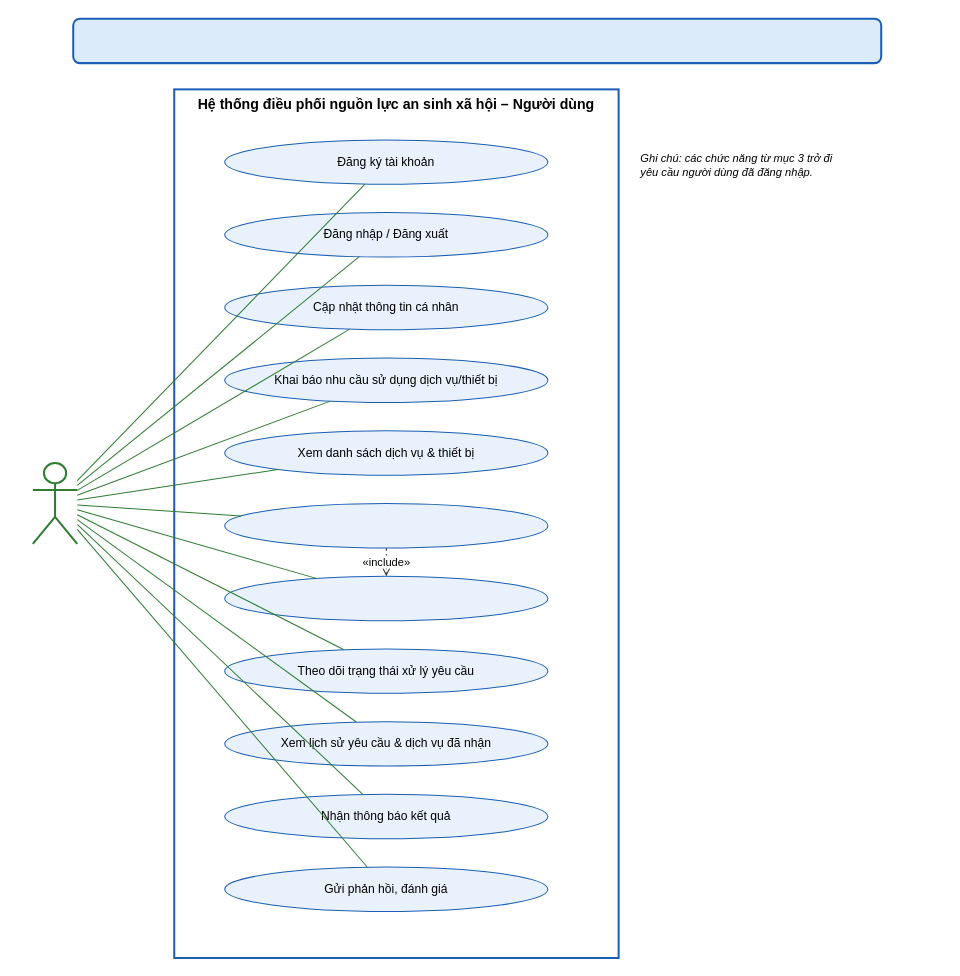
This 960x976 diagram has some shape labels left out. Here are the shapes that lost their labels. From the top down, the centre of each, then its label:
pixel 477 40: Biểu đồ Use case – Phân hệ Người dùng (Người dân)
pixel 54 503: Người dùng (Người dân)
pixel 386 525: Gửi yêu cầu cung cấp dịch vụ/thiết bị
pixel 386 598: Đính kèm hồ sơ, minh chứng
